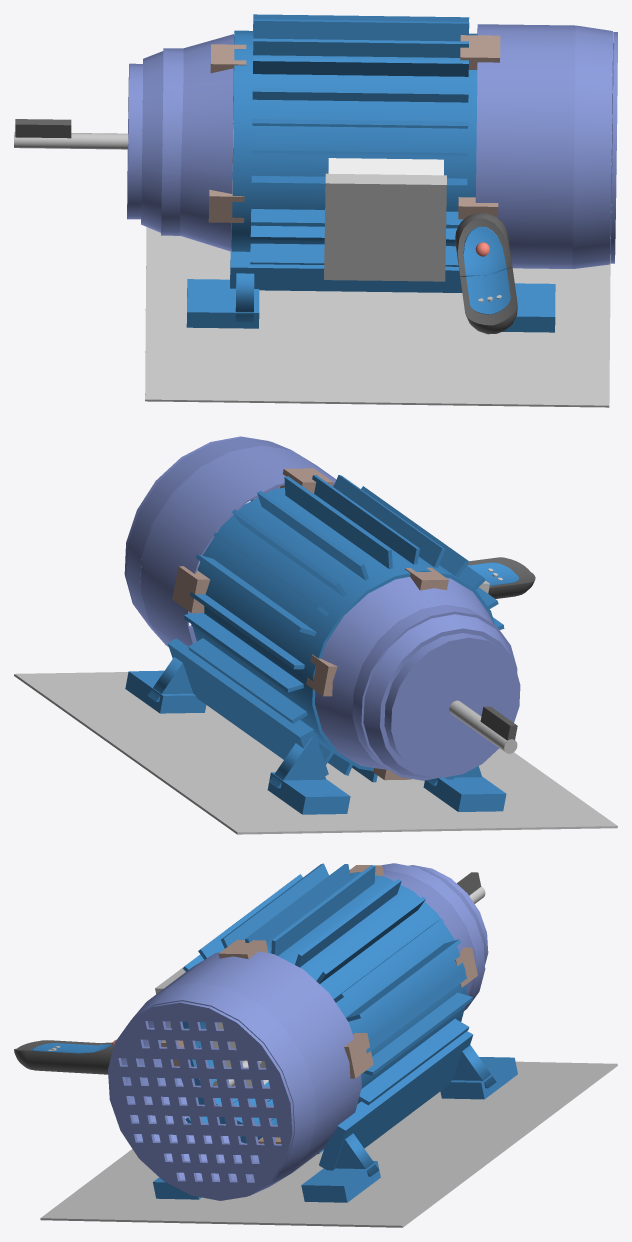
File: MotorSensorV44.glb
3 renders of one model, top to bottom at view 1: azimuth 30°, elevation 25°; view 2: azimuth 150°, elevation 25°; view 3: azimuth 270°, elevation 25°, orthographic. The views are drawn at different scales.
Visible parts, largest first — view 1: Objeto.001, Objeto.054, Objeto.042, Objeto.051, Objeto.069, Objeto.043, Objeto.046, Objeto.066, Objeto.070, Objeto.059, Objeto.067, Objeto.071 (+24 smaller); view 2: Objeto.001, Objeto.054, Objeto.072, Objeto.042, Objeto.069, Objeto.035, Objeto.071, Objeto.043, Objeto.070, Objeto.061, Objeto.067, Objeto.059 (+22 smaller); view 3: Objeto.001, Objeto.044, Objeto.054, Objeto.042, Objeto.043, Objeto.035, Objeto.061, Objeto.066, Objeto.037, Objeto.056, Objeto.009, Objeto.067 (+17 smaller).
Part boxes in pixels (box(x1,y1,x2,y2)): Objeto.001: box(145, 227, 610, 407); Objeto.054: box(231, 30, 477, 251); Objeto.042: box(475, 24, 576, 268); Objeto.051: box(324, 173, 446, 281); Objeto.069: box(180, 34, 233, 251); Objeto.043: box(573, 25, 612, 268); Objeto.046: box(230, 251, 462, 292); Objeto.066: box(253, 19, 469, 41); Objeto.070: box(161, 48, 183, 235); Objeto.059: box(253, 57, 468, 76); Objeto.067: box(253, 38, 468, 57); Objeto.071: box(141, 51, 163, 232); Objeto.001: box(14, 672, 617, 834); Objeto.054: box(192, 487, 494, 770); Objeto.072: box(384, 633, 520, 777); Objeto.042: box(140, 445, 336, 647); Objeto.069: box(315, 577, 494, 769); Objeto.035: box(167, 638, 328, 775); Objeto.071: box(363, 614, 513, 777); Objeto.043: box(126, 437, 290, 644); Objeto.070: box(352, 604, 517, 780); Objeto.061: box(188, 587, 498, 723); Objeto.067: box(312, 475, 419, 782); Objeto.059: box(328, 475, 445, 775); Objeto.001: box(40, 1061, 617, 1227); Objeto.044: box(108, 1001, 294, 1200); Objeto.054: box(171, 872, 466, 1143); Objeto.042: box(127, 951, 361, 1181); Objeto.043: box(121, 983, 315, 1195); Objeto.035: box(319, 1031, 473, 1170); Objeto.061: box(358, 1018, 469, 1105); Objeto.066: box(271, 865, 375, 1120); Objeto.037: box(301, 1160, 380, 1202); Objeto.056: box(199, 992, 472, 1075); Objeto.009: box(26, 1040, 114, 1074); Objeto.067: box(245, 864, 351, 942).
Size of the model in its own units: 1392 by 709 by 1408.
